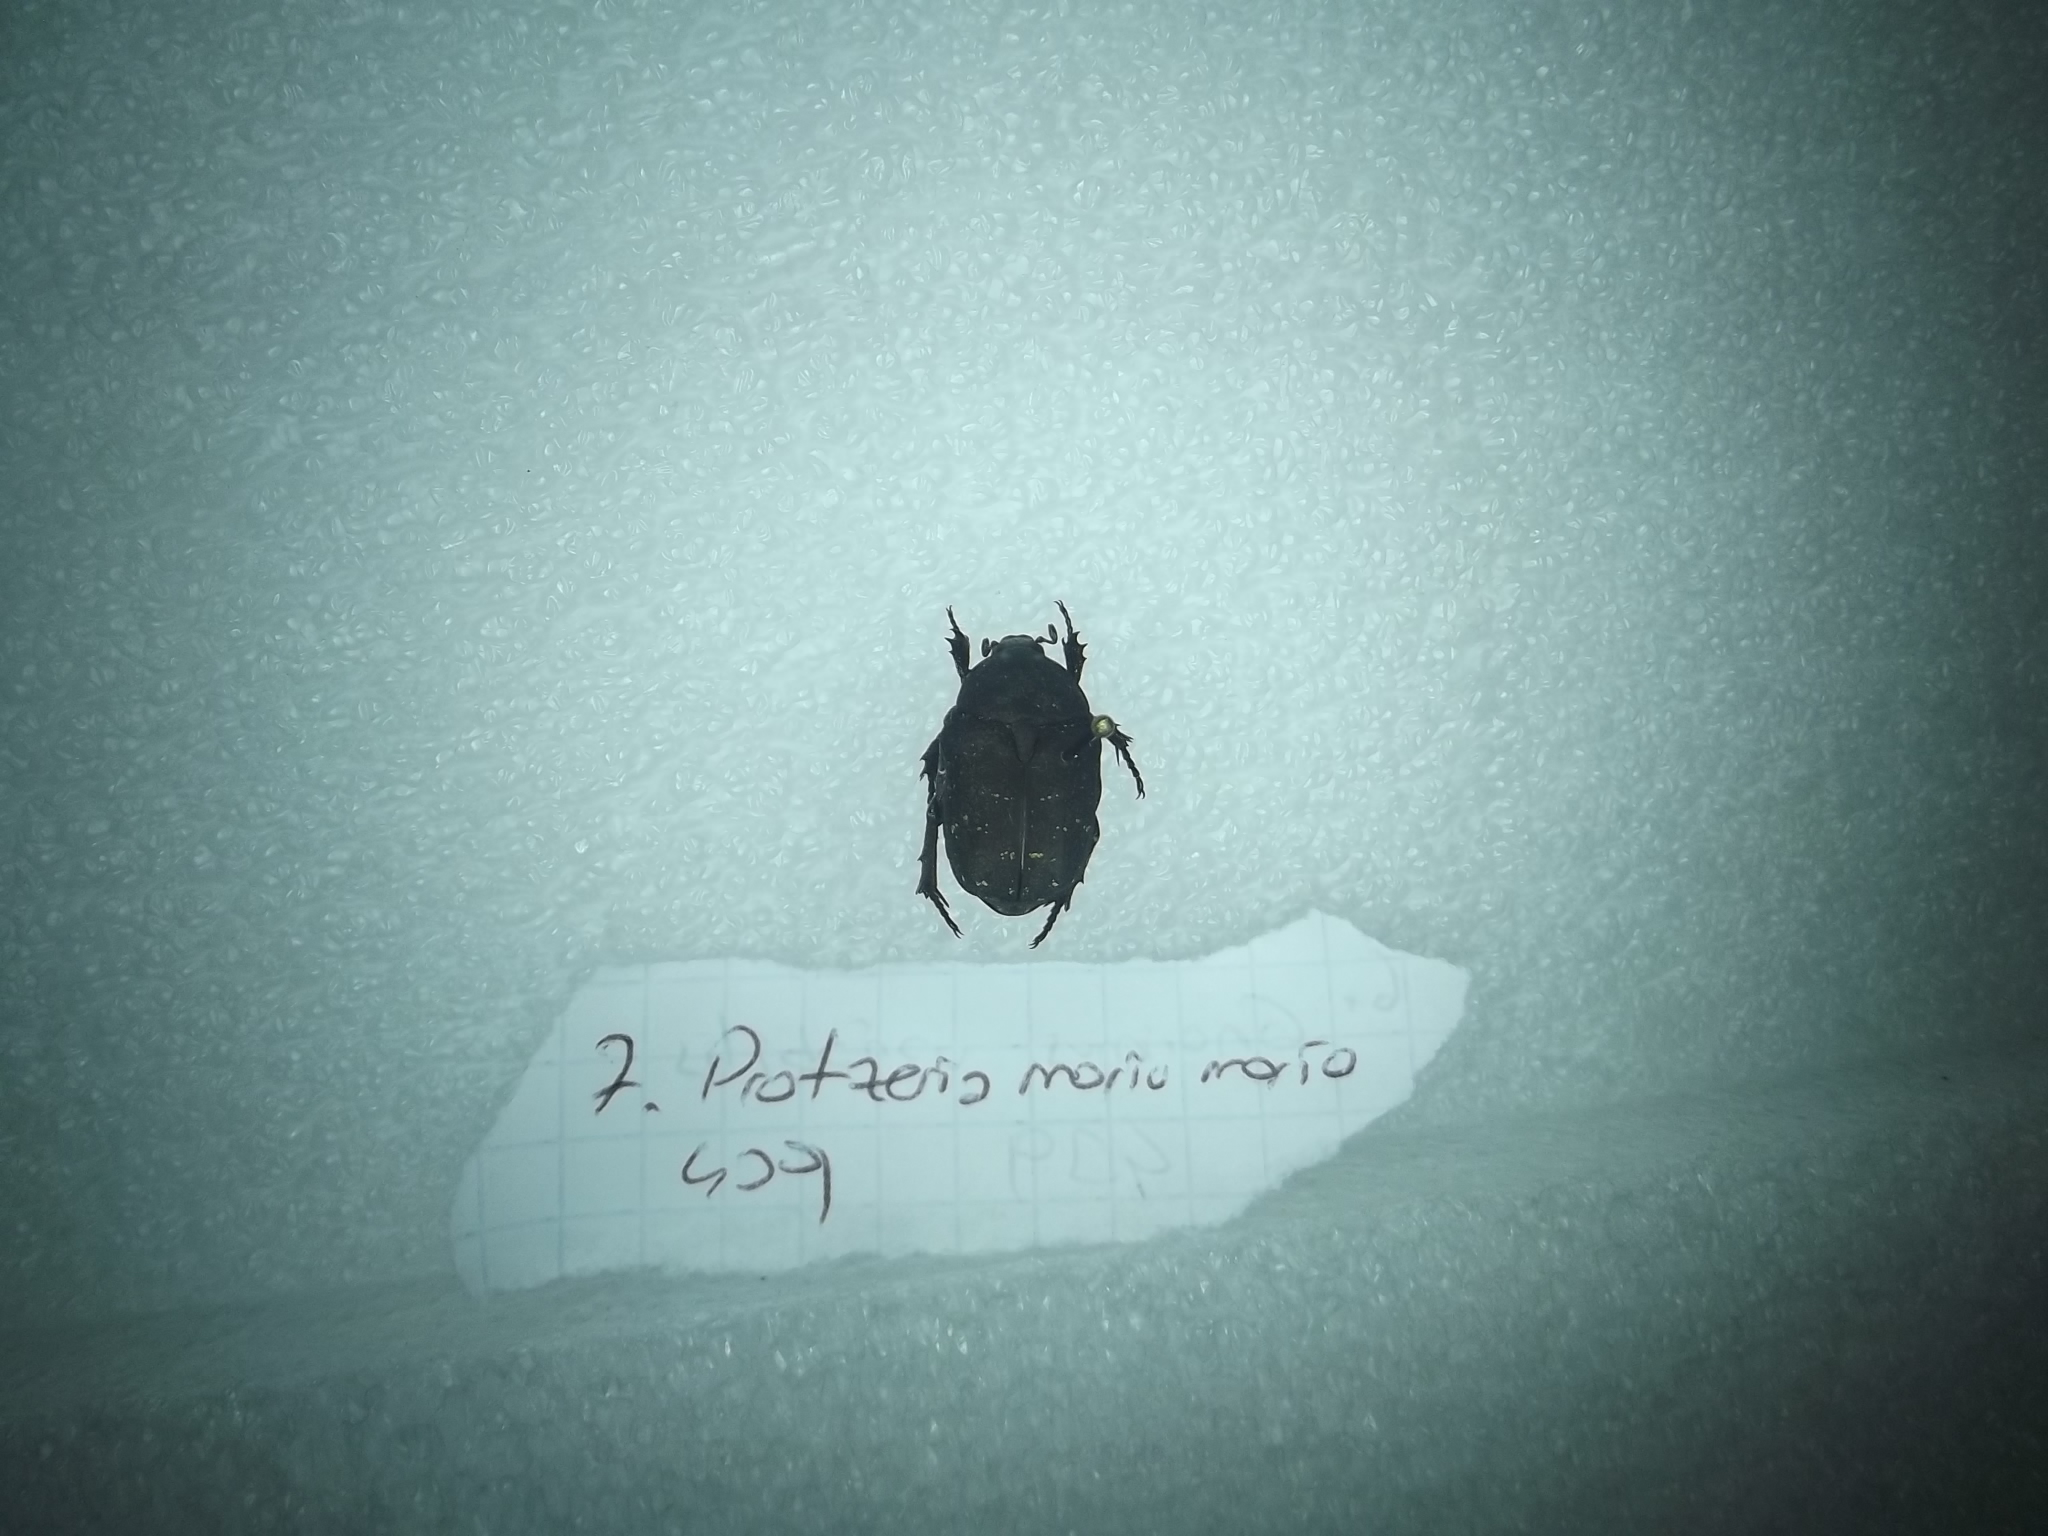Protaetia_morio_morio: (905, 584, 1163, 950)
